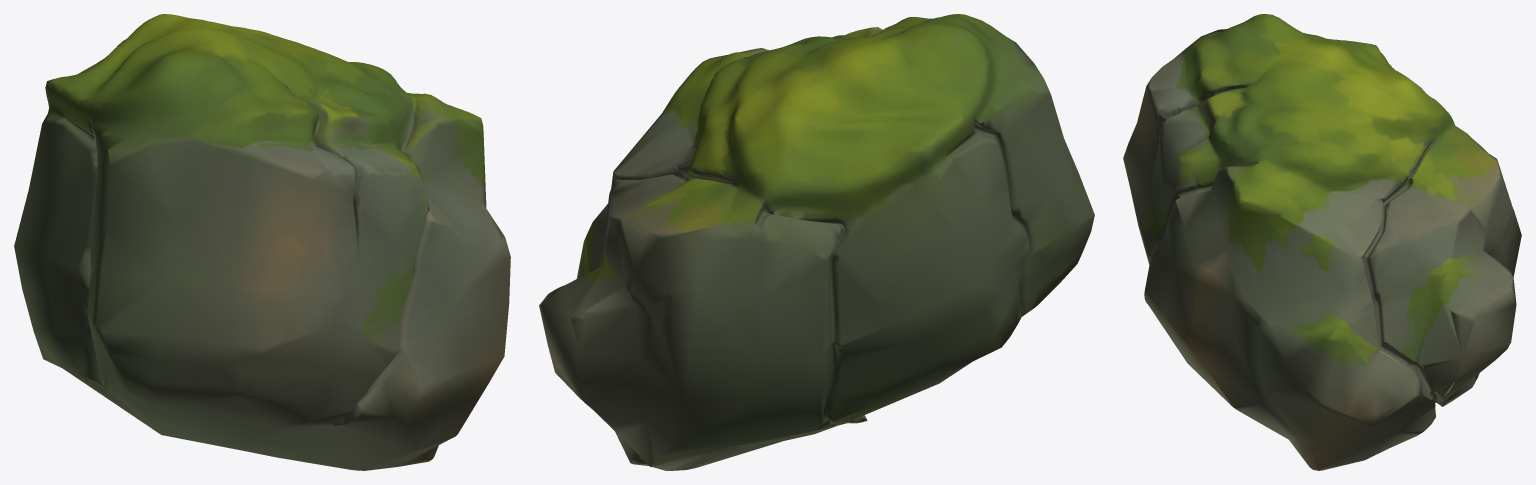
File: rock1.fbx
The picture shows the model from 3 angles, left to right: view 1: azimuth 30°, elevation 25°; view 2: azimuth 150°, elevation 25°; view 3: azimuth 270°, elevation 25°; orthographic projection. The views are drawn at different scales.
Visible parts, largest first — view 1: d5853955_b6e3_4040_91fc_c6adc6c23978; view 2: d5853955_b6e3_4040_91fc_c6adc6c23978; view 3: d5853955_b6e3_4040_91fc_c6adc6c23978.
Boxes of the visible parts, x1,y1,x2,y2 form: d5853955_b6e3_4040_91fc_c6adc6c23978: [14, 14, 510, 470]; d5853955_b6e3_4040_91fc_c6adc6c23978: [539, 14, 1094, 470]; d5853955_b6e3_4040_91fc_c6adc6c23978: [1123, 14, 1521, 470].
Bounding box in the file's own units: 0.9995 × 0.9878 × 0.9858.
1 material, 1 textured.
